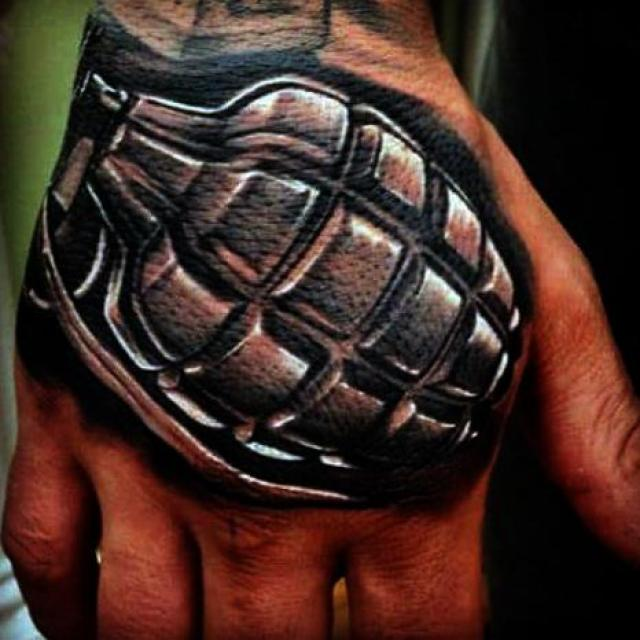grenade: (36, 66, 523, 503)
